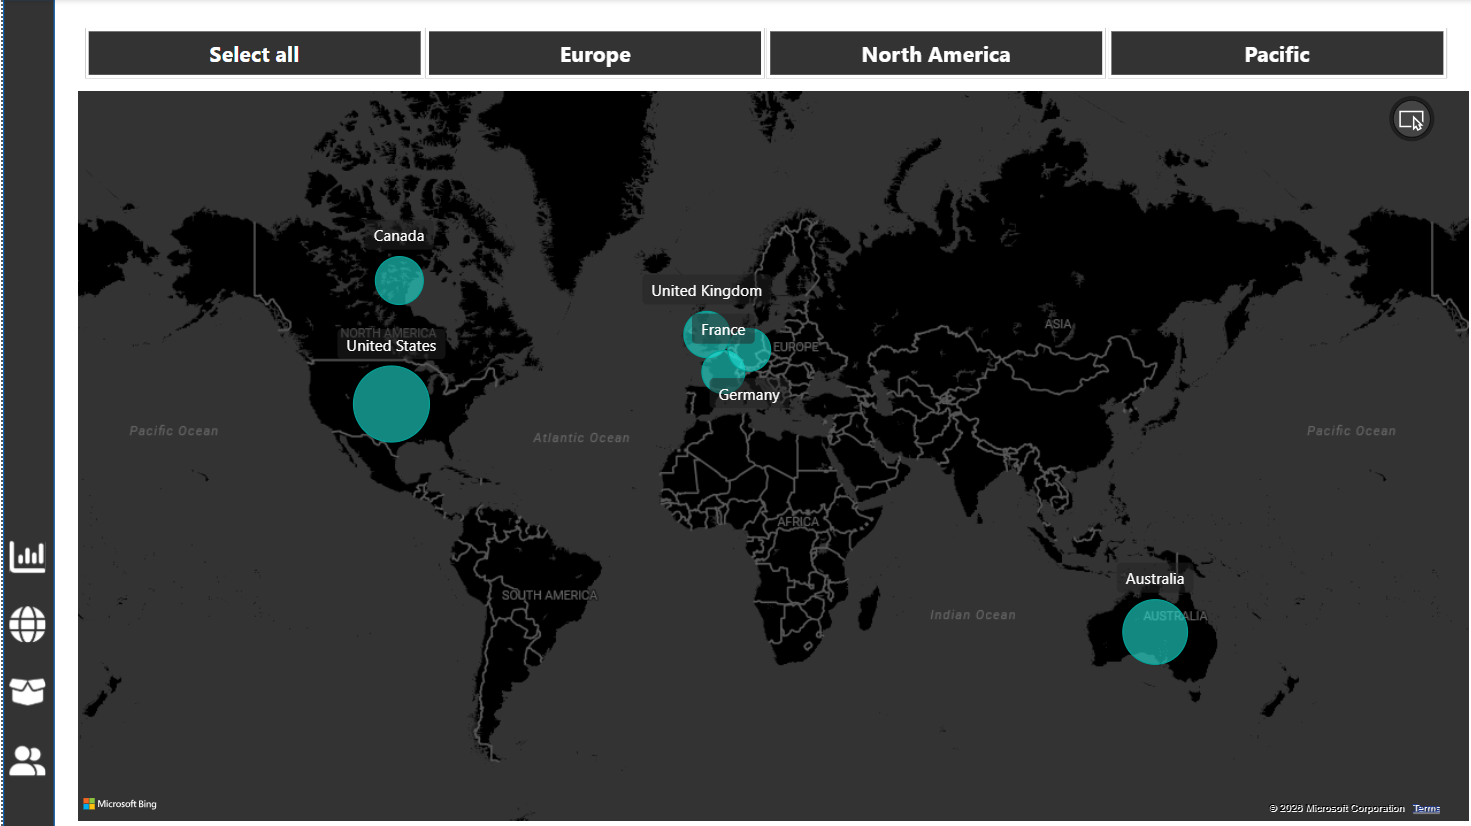

Layout of this report page (visuals, bound fields, positions):
{"tool":"powerbi","page":{"name":"MAP","canvas":[1280,720],"ordinal":1},"visuals":[{"type":"shape","box":[0,0,45,720.3],"z":0},{"type":"actionButton","box":[0.7,465.2,100.5,39.5],"z":0,"group":"g1"},{"type":"map","fields":{"Category":["Territory Lookup.Country"],"Size":["Measure Table.Total Orders"]},"box":[59.2,75.7,1220.2,644.5],"z":1000},{"type":"actionButton","box":[0.7,523.7,100.5,39.9],"z":1000,"group":"g1"},{"type":"slicer","fields":{"Values":["Territory Lookup.Continent"]},"box":[45.4,17.9,1233.9,57.8],"z":2000},{"type":"actionButton","box":[0.7,582.8,100.5,39.9],"z":2000,"group":"g1"},{"type":"group","id":"g1","title":"navigation page","box":[0.7,465.2,100.5,216.5],"z":2001},{"type":"actionButton","box":[0.7,641.8,100.5,39.9],"z":3000,"group":"g1"}]}

Visuals, with their boxes in screenshot pixels (x1, y1, x2, y2):
shape: crop(0, 4, 51, 820)
actionButton: crop(1, 531, 115, 576)
map - Territory Lookup.Country x Measure Table.Total Orders: crop(67, 90, 1450, 820)
actionButton: crop(1, 597, 115, 643)
slicer - Territory Lookup.Continent: crop(51, 24, 1450, 90)
actionButton: crop(1, 664, 115, 710)
"navigation page" group: crop(1, 531, 115, 776)
actionButton: crop(1, 731, 115, 776)
